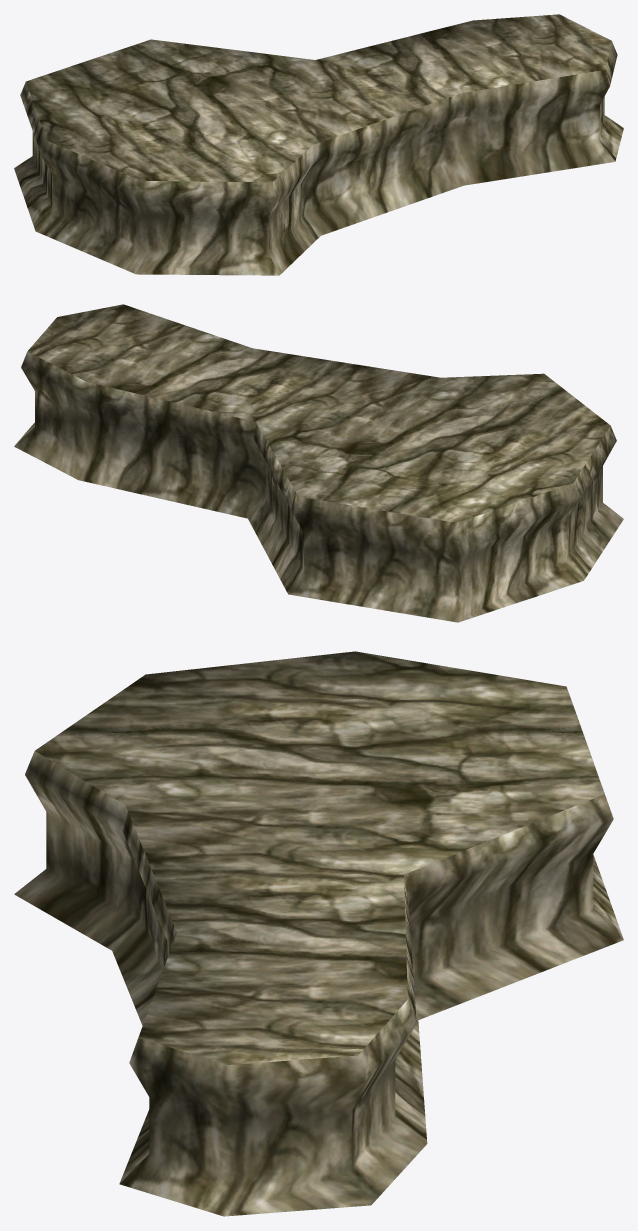
File: CB_NEWPLAYSURFACE_CB_PLAYSURFACE122.fbx
3 views of the same model, one above another, from view 1: azimuth 30°, elevation 25°; view 2: azimuth 150°, elevation 25°; view 3: azimuth 270°, elevation 25° (orthographic). The views are drawn at different scales.
Visible parts, largest first — view 1: CB_NEWPLAYSURFACE_CB_PLAYSURFACE122; view 2: CB_NEWPLAYSURFACE_CB_PLAYSURFACE122; view 3: CB_NEWPLAYSURFACE_CB_PLAYSURFACE122.
Boxes of the visible parts, x1,y1,x2,y2 form: CB_NEWPLAYSURFACE_CB_PLAYSURFACE122: [14, 14, 623, 275]; CB_NEWPLAYSURFACE_CB_PLAYSURFACE122: [14, 304, 623, 622]; CB_NEWPLAYSURFACE_CB_PLAYSURFACE122: [14, 651, 623, 1216].
Size of the model in its own units: 188624 by 29258 by 112961.
2 materials, 2 textured.
